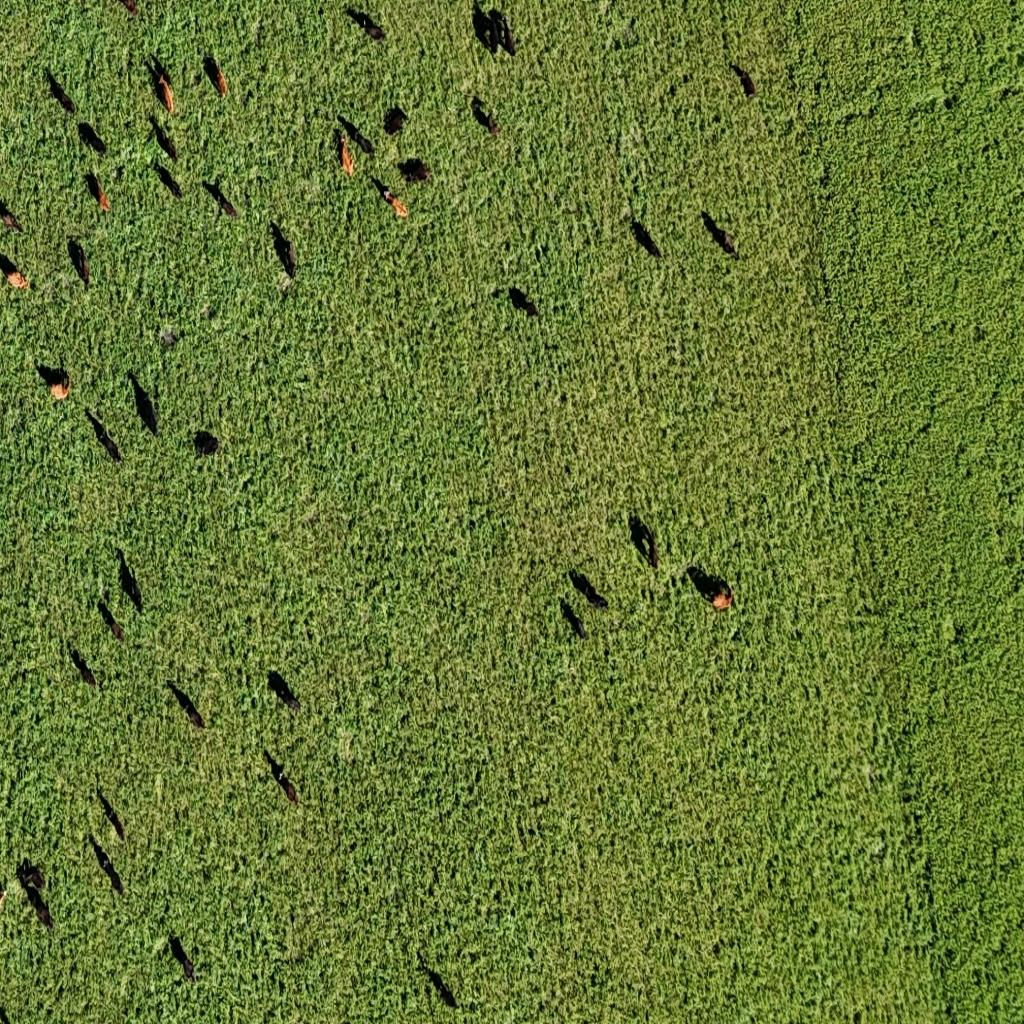cow: (16, 860, 55, 930), (88, 834, 124, 898), (686, 565, 731, 612), (418, 955, 457, 1009), (166, 680, 206, 730), (85, 409, 122, 463), (129, 372, 159, 437), (265, 751, 299, 806), (702, 212, 740, 261), (629, 512, 660, 572), (268, 220, 298, 280), (97, 787, 128, 844), (372, 174, 410, 220), (117, 548, 143, 614), (570, 567, 608, 609), (149, 55, 175, 115), (338, 115, 374, 158), (46, 70, 76, 118), (267, 670, 300, 713), (206, 178, 240, 219), (37, 362, 72, 401), (169, 934, 197, 982), (347, 8, 386, 42), (97, 599, 126, 644), (473, 6, 499, 56), (630, 218, 662, 258), (69, 645, 97, 690), (68, 238, 91, 292), (152, 119, 178, 166), (472, 97, 500, 137), (0, 252, 29, 290), (509, 285, 541, 319), (78, 120, 108, 156), (155, 161, 183, 199), (85, 172, 110, 214), (560, 601, 586, 640), (494, 12, 516, 58), (204, 54, 227, 97), (0, 866, 19, 916), (731, 63, 756, 99), (401, 157, 433, 184), (0, 198, 24, 234), (337, 129, 355, 177), (193, 430, 221, 458), (383, 105, 407, 137), (370, 174, 390, 200), (621, 18, 638, 48), (160, 326, 178, 347), (117, 1, 138, 18), (998, 85, 1016, 103), (944, 94, 958, 110), (202, 304, 216, 320), (0, 1003, 10, 1024), (254, 20, 262, 46), (114, 164, 125, 182), (852, 1009, 862, 1024)
